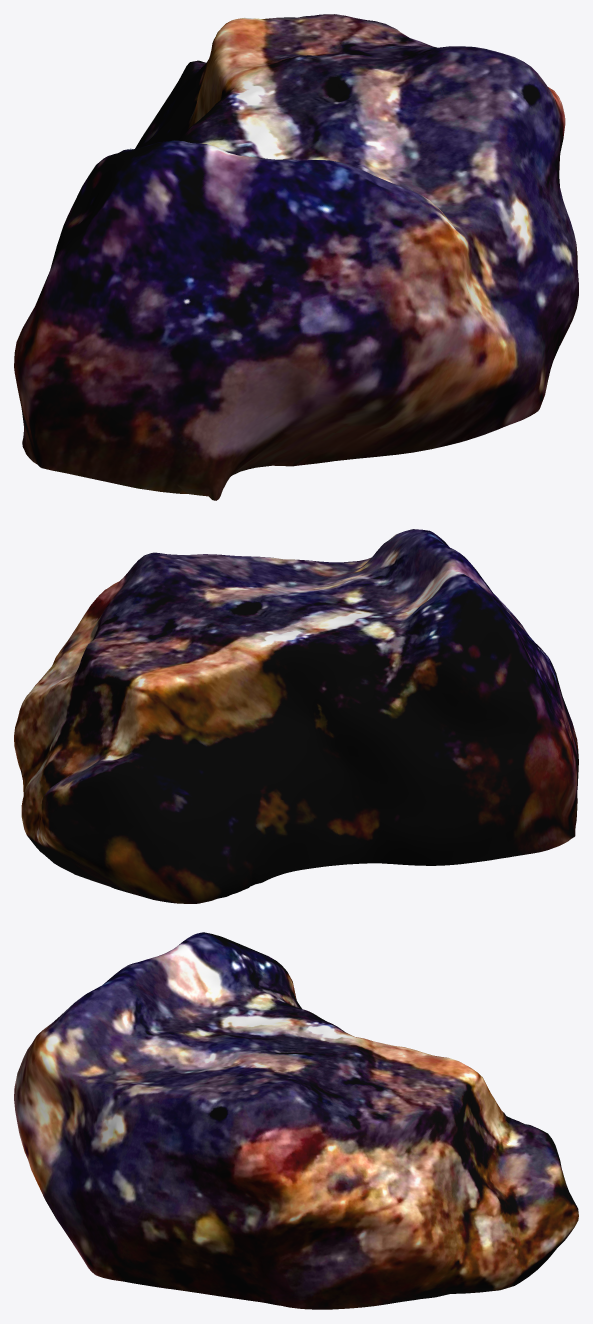
File: source.glb
3 renders of one model, top to bottom at view 1: azimuth 30°, elevation 25°; view 2: azimuth 150°, elevation 25°; view 3: azimuth 270°, elevation 25°, orthographic. The views are drawn at different scales.
Parts seen in each view (by area): view 1: 3DModel; view 2: 3DModel; view 3: 3DModel.
Boxes of the visible parts, x1,y1,x2,y2 form: 3DModel: (14, 14, 578, 500); 3DModel: (14, 529, 578, 903); 3DModel: (14, 932, 578, 1309).
Bounding box in the file's own units: 0.1548 × 0.0735 × 0.1657.
Materials: 1 (1 with a texture image).
